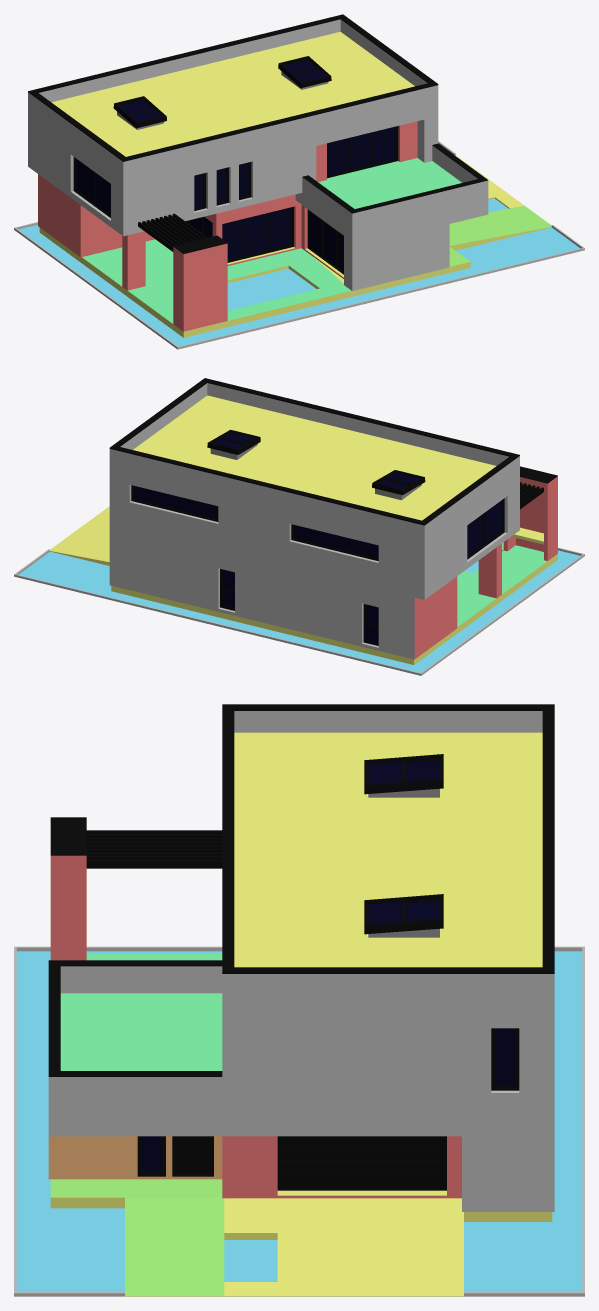
Rendered from Modern House_3_fbx.FBX.
3 renders of one model, top to bottom at view 1: azimuth 30°, elevation 25°; view 2: azimuth 150°, elevation 25°; view 3: azimuth 270°, elevation 25°, orthographic. The views are drawn at different scales.
Visible parts, largest first — view 1: MH03_OBJ01, MH03_OBJ03, MH03_OBJ02, MH03_OBJ04; view 2: MH03_OBJ01, MH03_OBJ03, MH03_OBJ02, MH03_OBJ04; view 3: MH03_OBJ01, MH03_OBJ03, MH03_OBJ02, MH03_OBJ04.
Part boxes in pixels (left/top/right/bottom): MH03_OBJ01: left=28, top=14, right=488, bottom=331; MH03_OBJ03: left=14, top=141, right=584, bottom=349; MH03_OBJ02: left=73, top=126, right=398, bottom=274; MH03_OBJ04: left=113, top=56, right=331, bottom=129; MH03_OBJ01: left=109, top=378, right=557, bottom=664; MH03_OBJ03: left=14, top=506, right=584, bottom=675; MH03_OBJ02: left=131, top=485, right=504, bottom=645; MH03_OBJ04: left=207, top=429, right=425, bottom=500; MH03_OBJ01: left=48, top=704, right=554, bottom=1221; MH03_OBJ03: left=14, top=946, right=584, bottom=1296; MH03_OBJ02: left=137, top=1028, right=519, bottom=1190; MH03_OBJ04: left=364, top=754, right=443, bottom=937.
Bounding box in the file's own units: 825 × 574 × 278.
